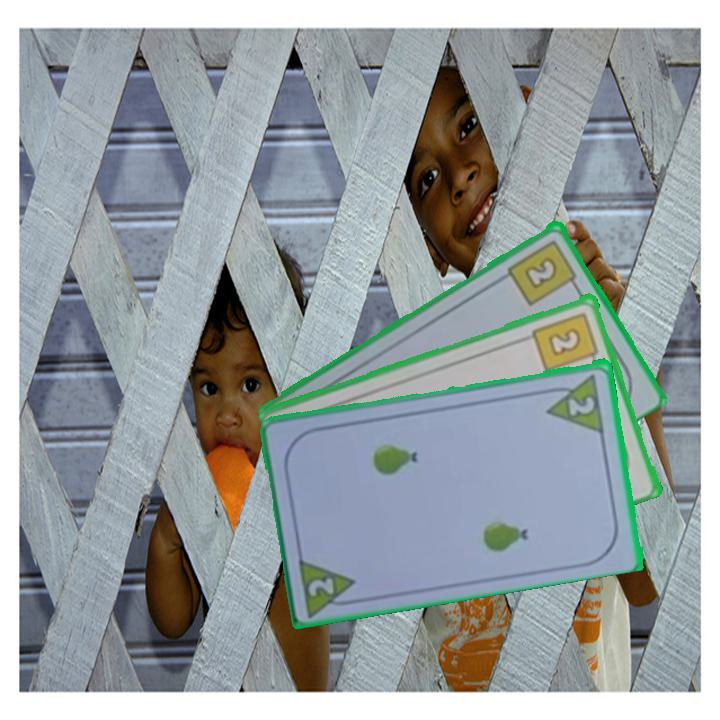2b: (504, 236, 582, 308), (529, 308, 602, 374)
2p: (295, 552, 363, 617), (541, 369, 608, 434)
